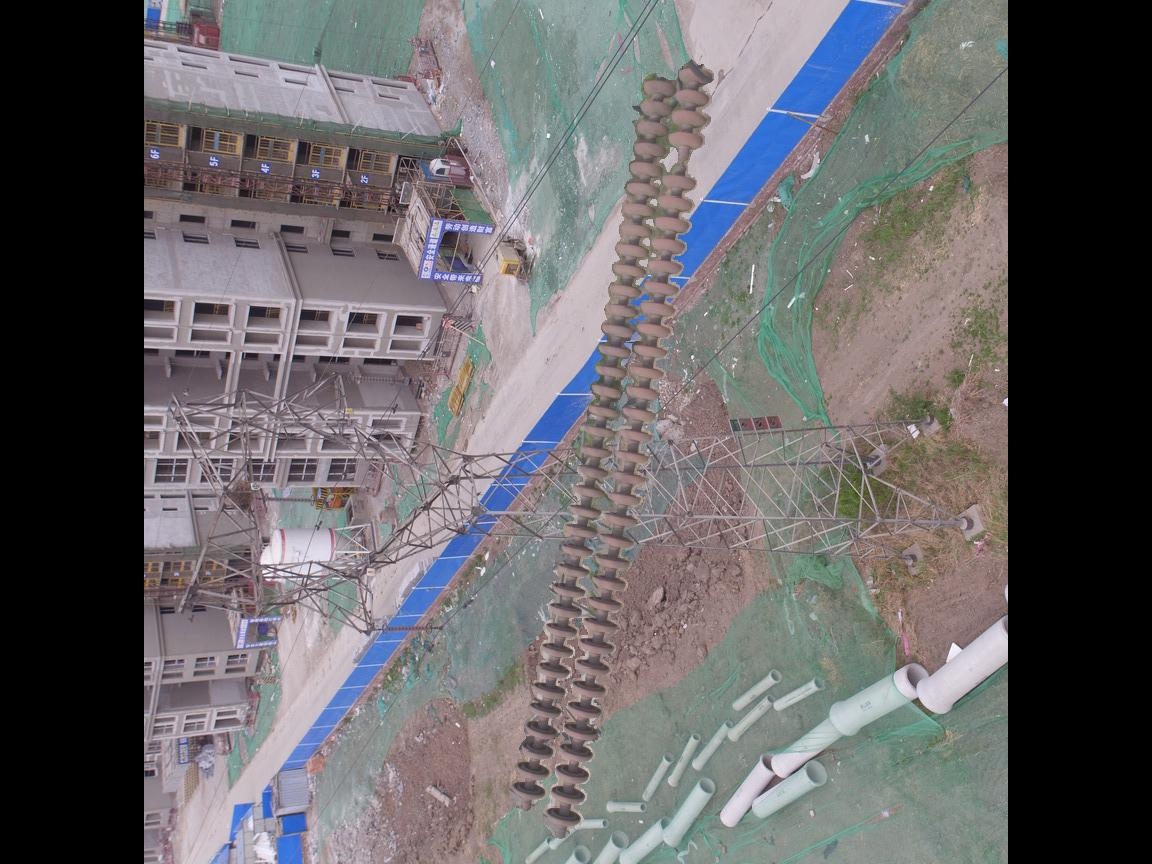insulator: (504, 56, 718, 836)
insulator_stringdrop: (659, 126, 710, 195)
